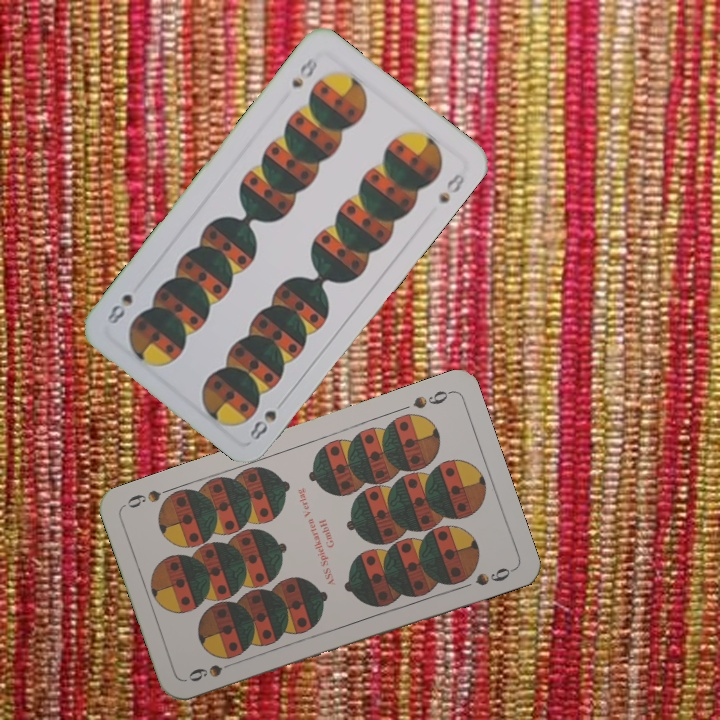S8: (245, 406, 279, 444), (287, 52, 320, 91)
S9: (184, 656, 241, 685), (409, 386, 454, 412)
